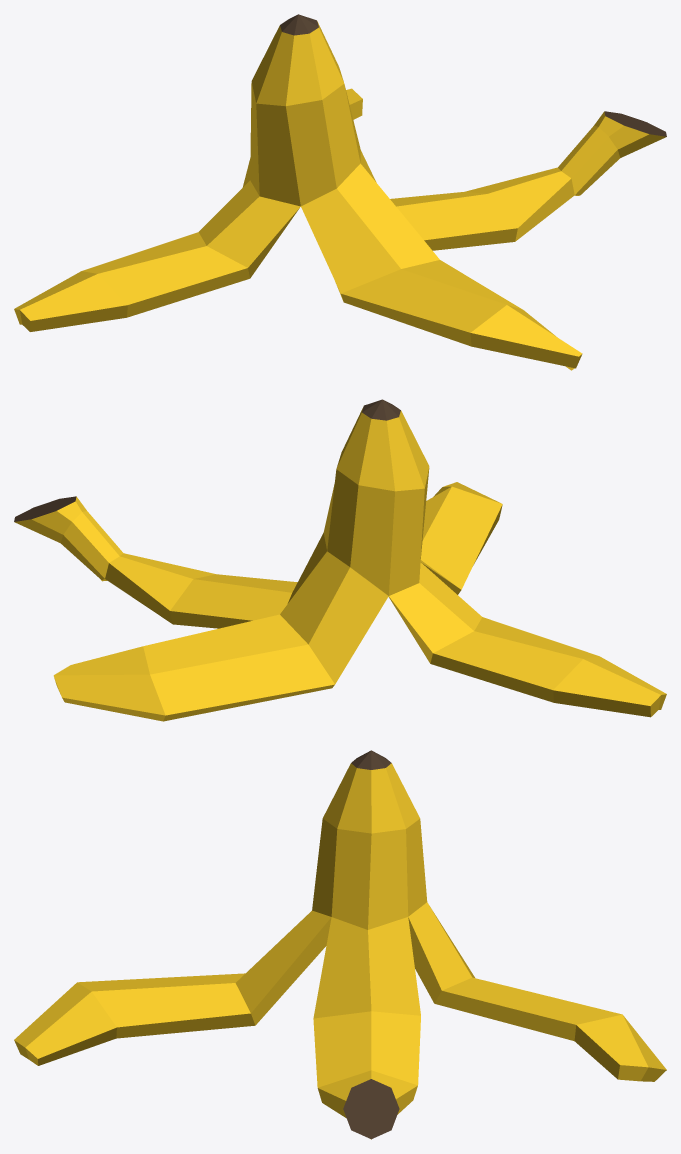
Rendered from banana-peel.glb.
The picture shows the model from 3 angles, top to bottom: view 1: azimuth 30°, elevation 25°; view 2: azimuth 150°, elevation 25°; view 3: azimuth 270°, elevation 25°; orthographic projection.
Parts seen in each view (by area): view 1: banana-peel; view 2: banana-peel; view 3: banana-peel.
Part boxes in pixels (<box>): banana-peel: <box>14,14,666,370</box>; banana-peel: <box>14,399,666,721</box>; banana-peel: <box>14,750,666,1139</box>.
Size of the model in its own units: 0.3808 by 0.1472 by 0.3312.
Materials: 1 (1 with a texture image).
